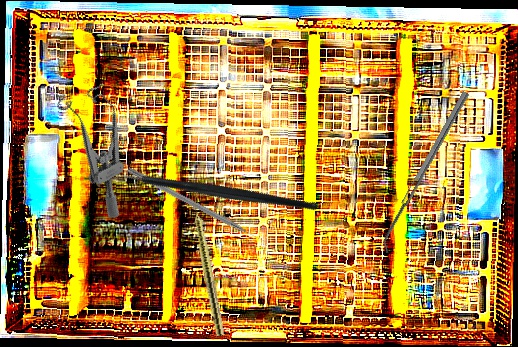Chopper: (101, 107, 320, 282)
Handpiece: (188, 192, 227, 337)
Hook Surgical: (126, 166, 267, 246)
Spatula Surgical: (376, 90, 476, 255)
Speculum: (42, 70, 164, 222)
